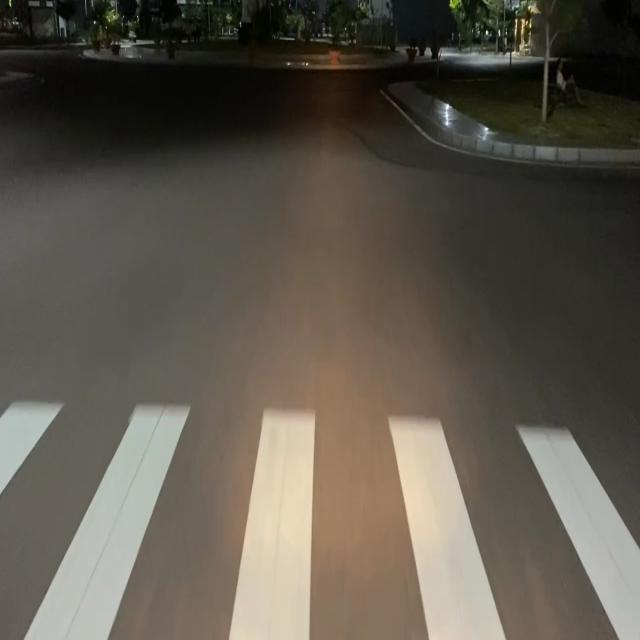walk-crossing: (0, 399, 640, 640)
